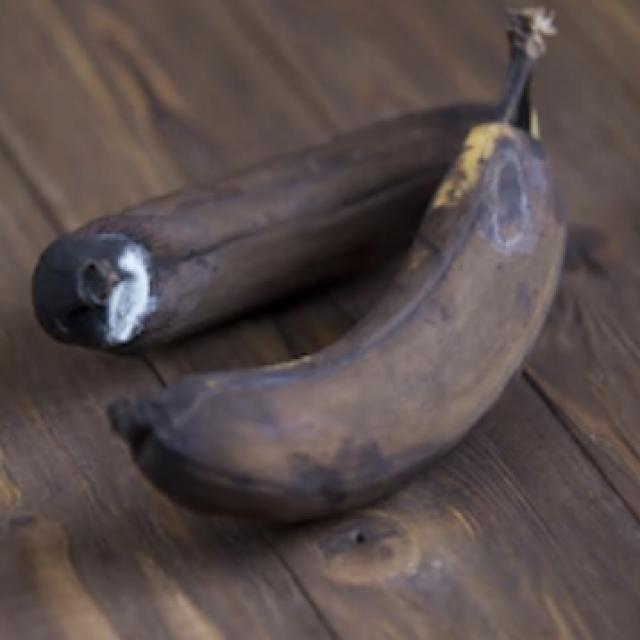rotten-banana: (103, 106, 602, 533), (31, 40, 569, 347)
